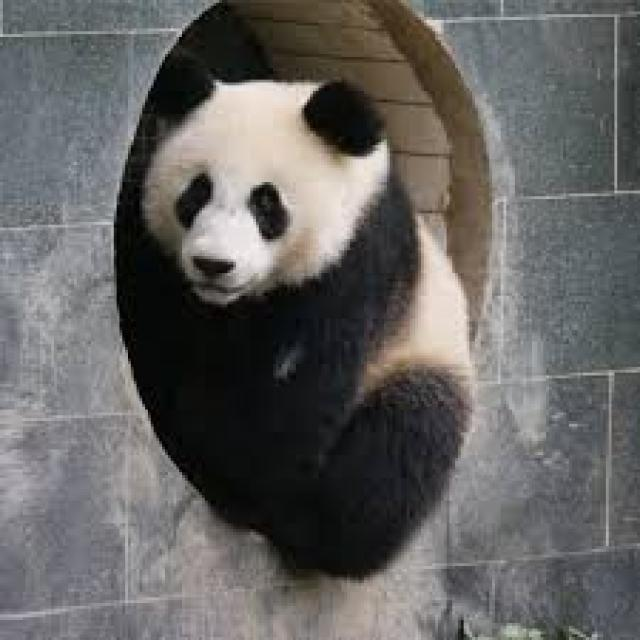Panda: (128, 38, 492, 603)
